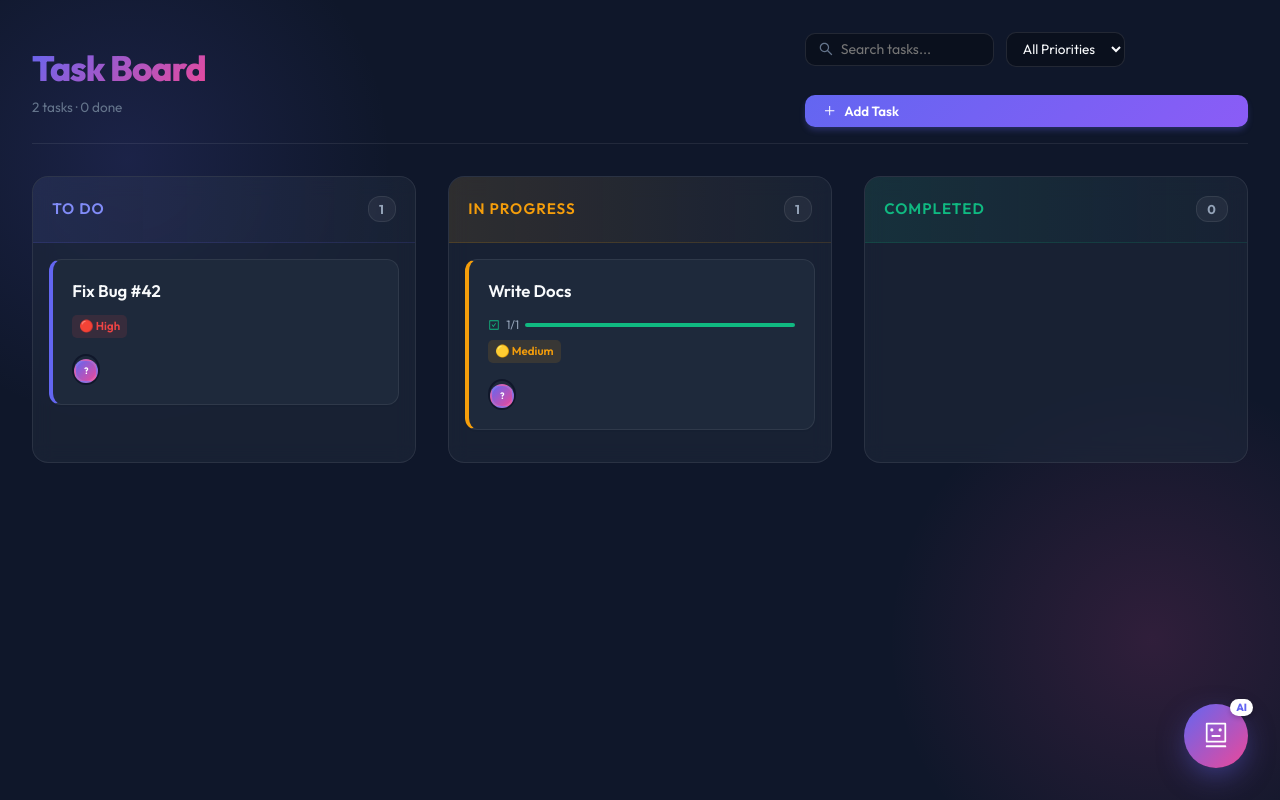
Test: Tasks Page › filters tasks by priority
Expected: the text "Fix Bug #42" is shown, [72, 279, 161, 302]
Note: Select "medium" in the priority filter
Select "🟡 Medium" in the dropdown: (1065, 49) [1006, 32, 1125, 67]
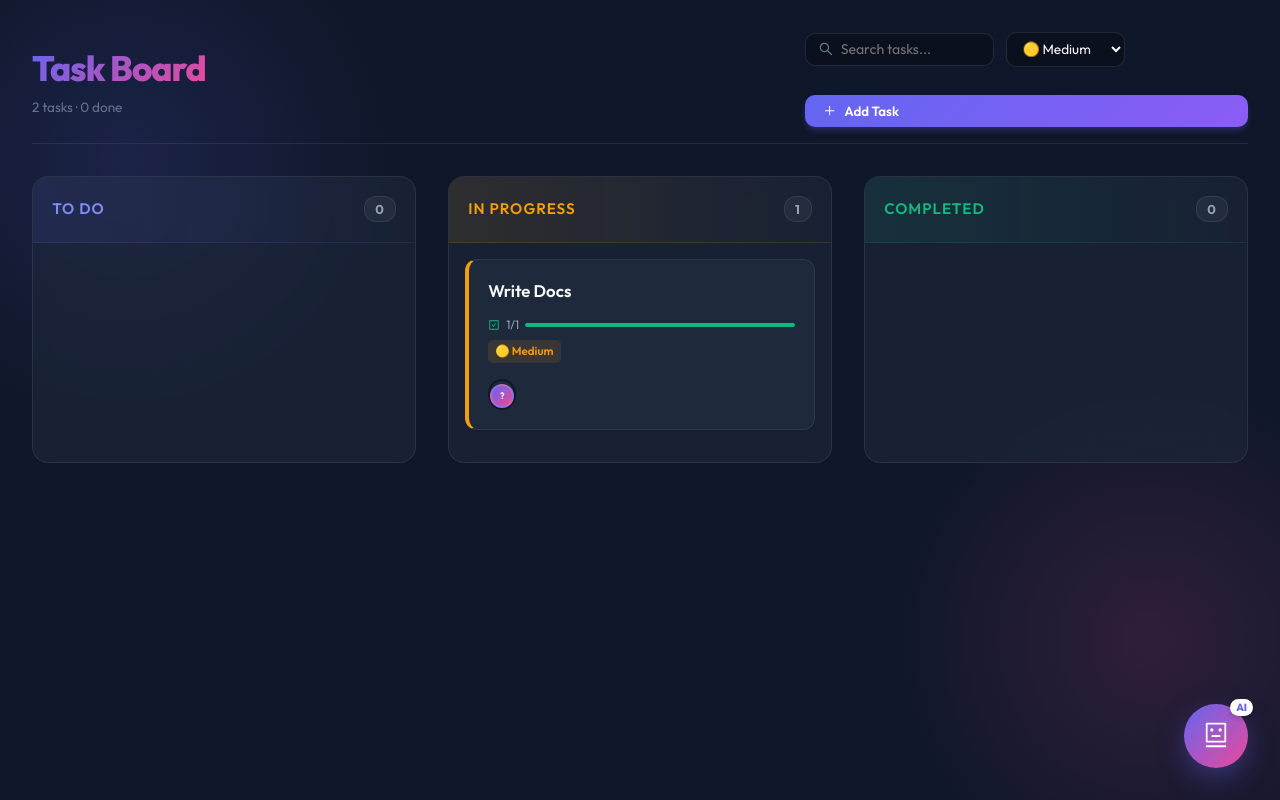
Expected: the text "Write Docs" is shown, [488, 279, 571, 302]
Expected: the text "Fix Bug #42" is gone
